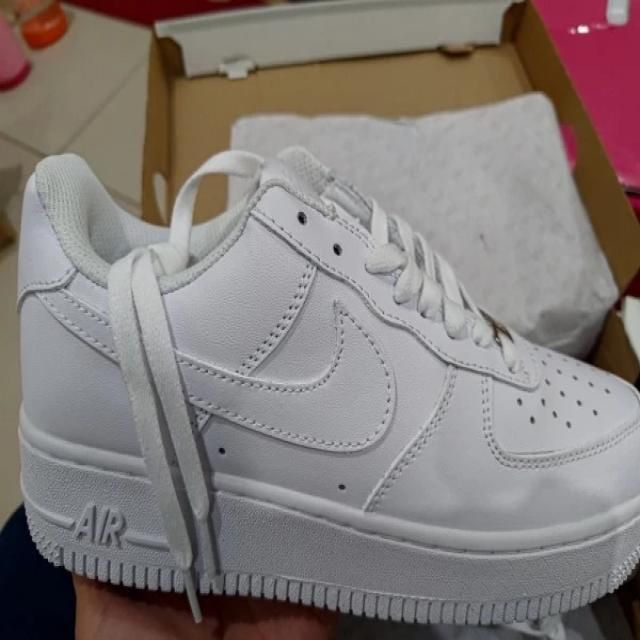nike original air force: (14, 150, 639, 628)
